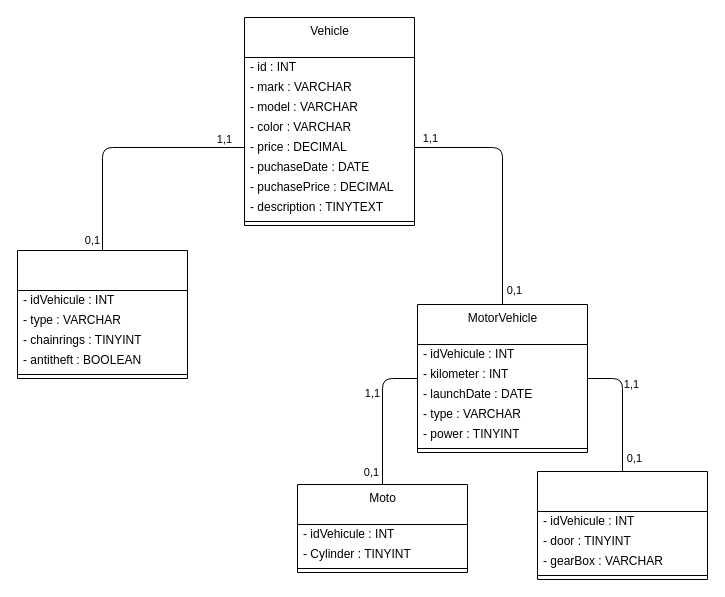
Image size: 725x597. Some labels were removed from this diagram. Here are the shapes that lost their labels. From the top down, the box of each, then its label:
(16, 250, 188, 378): Velo
(536, 470, 708, 580): Car
